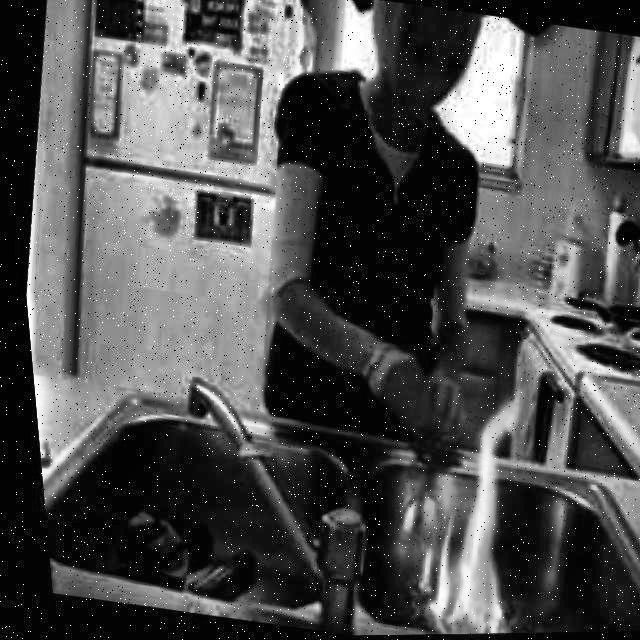Fire: (395, 421, 528, 636)
